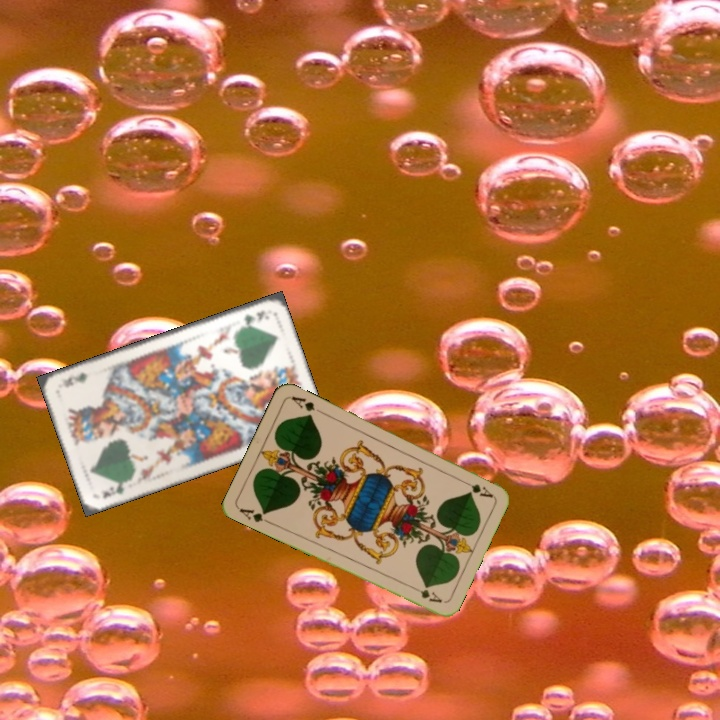GA: (457, 476, 495, 500), (235, 504, 274, 527)
GK: (98, 476, 132, 501), (239, 306, 267, 327)
